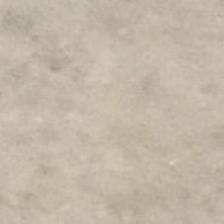Non_Crack: (19, 8, 224, 223)
